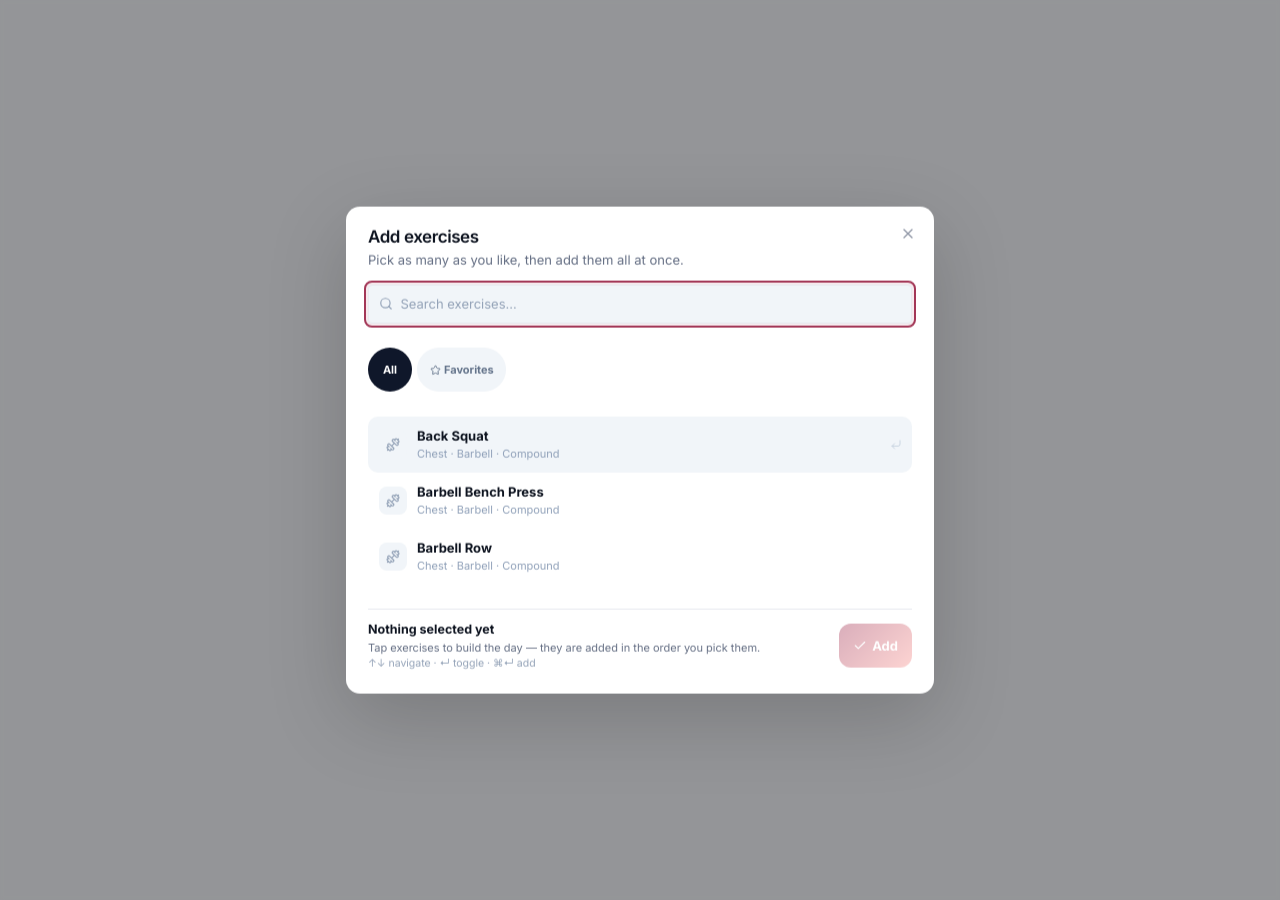
Test: selecting does not close the dialog › collects picks instead of firing one at a time
Click the text "Back Squat": coordinates (453, 436) [417, 426, 488, 446]
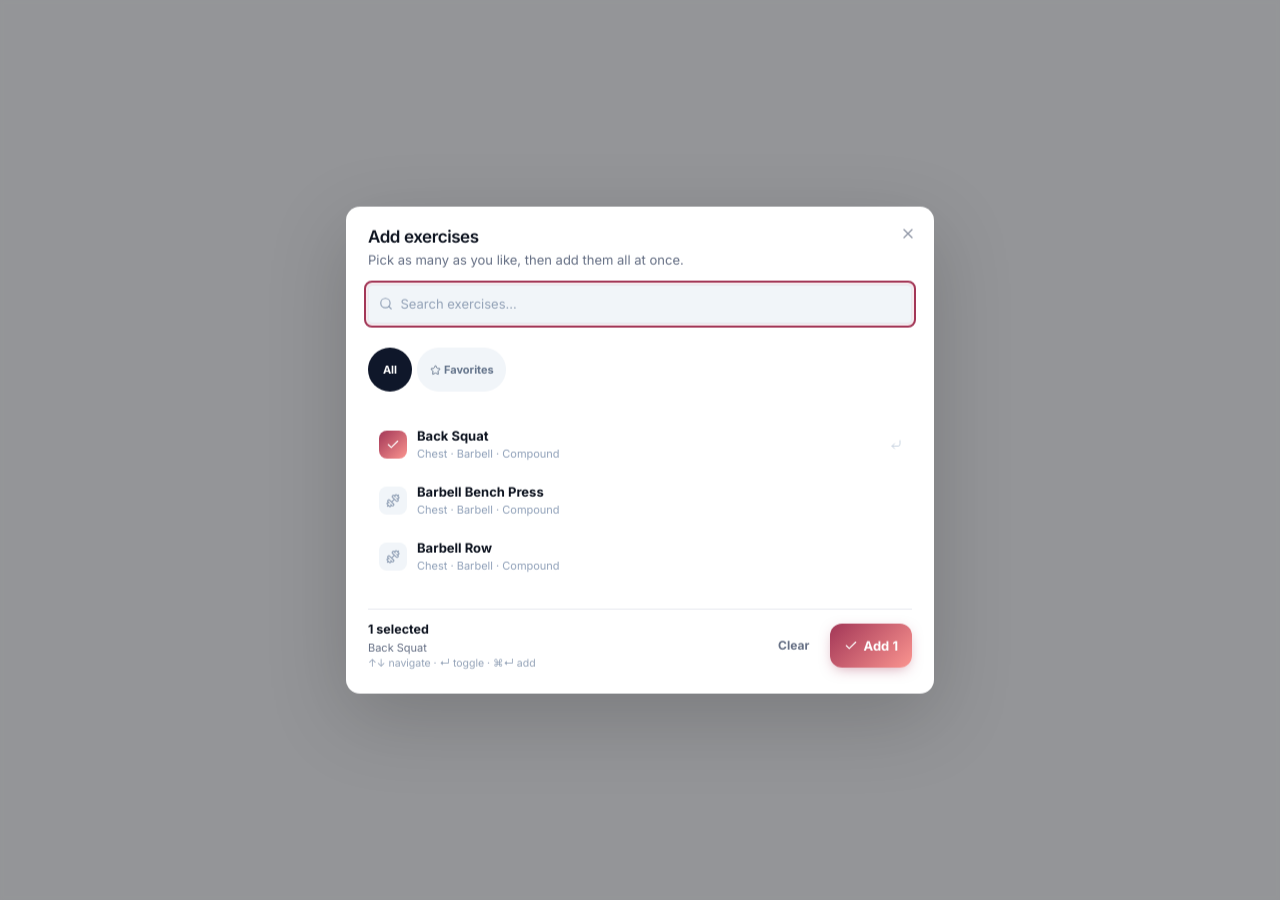
Click the text "Barbell Bench Press": coordinates (480, 492) [417, 482, 544, 502]
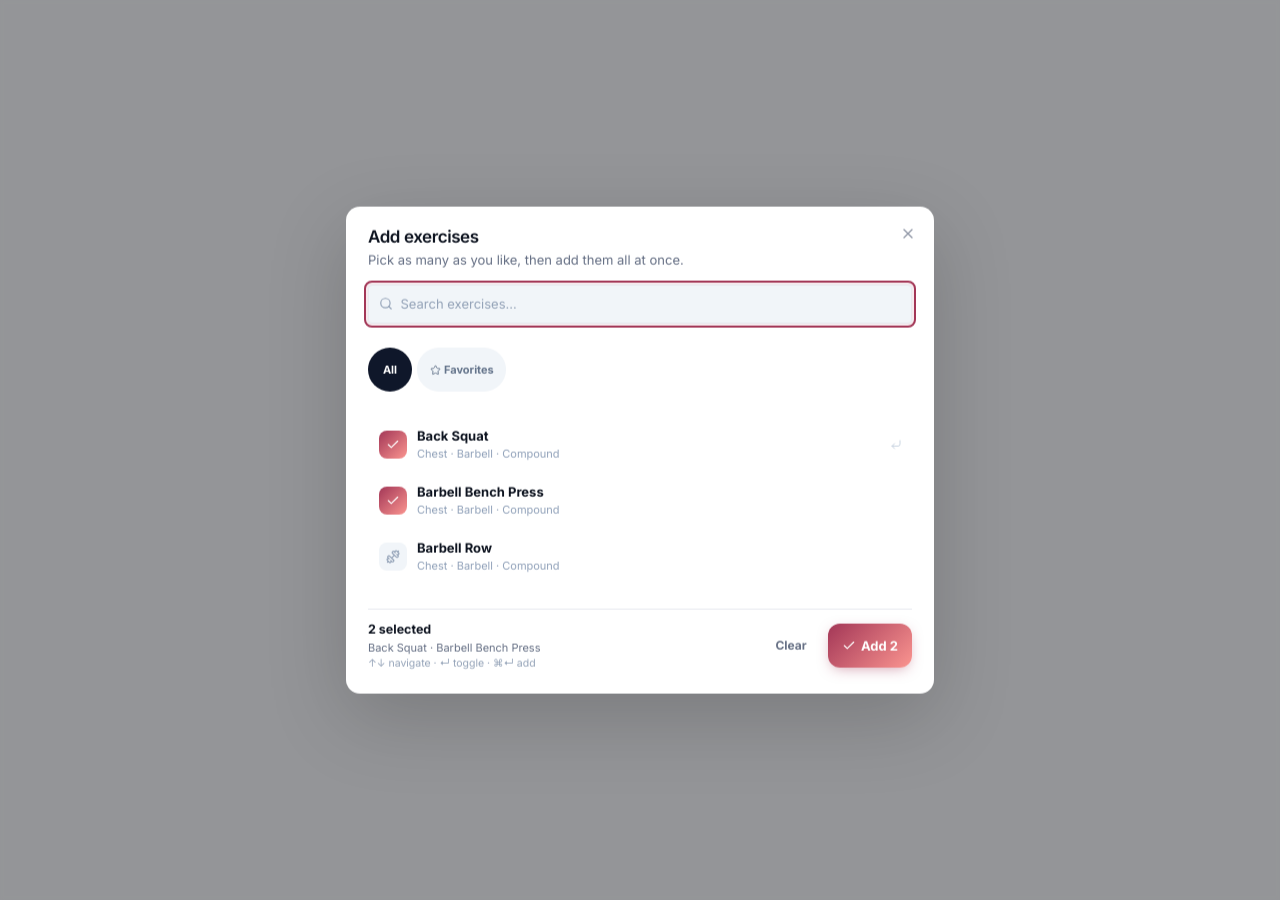
Now the button "Add 2" is shown, box [828, 624, 912, 668]
